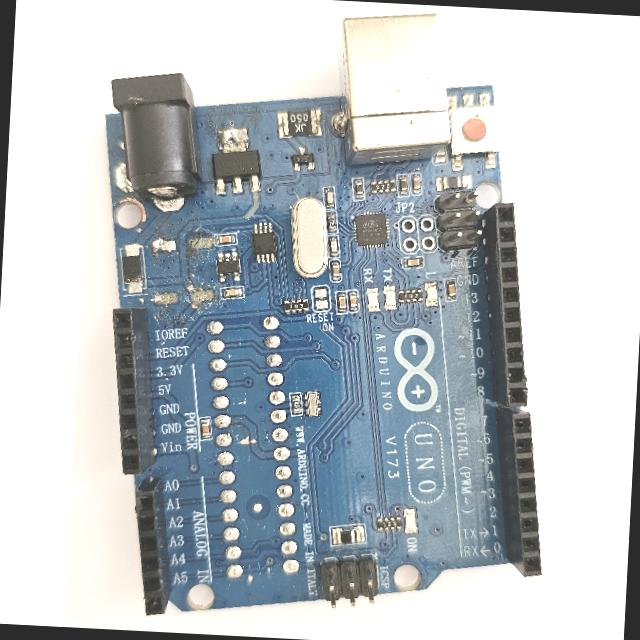missing_atmega: (203, 304, 314, 593)
missing_capacitors: (148, 223, 225, 315)
